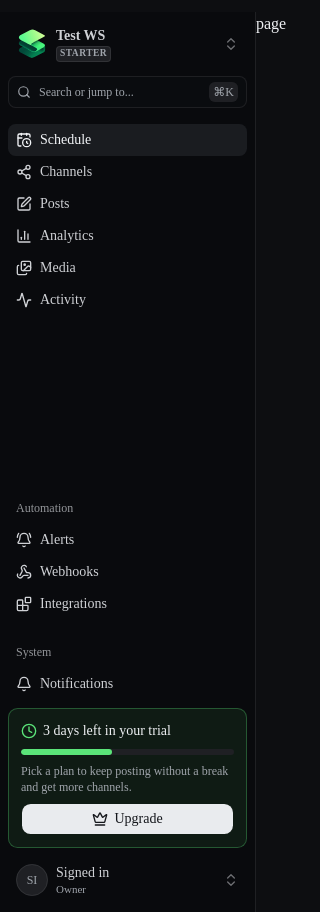
Test case: user menu › in the trial: a highlighted Choose a plan, no Plan & usage (it is in the workspace menu)
Click the button with test id "user-menu-trigger".
click(128, 880)  # box [8,856,247,904]
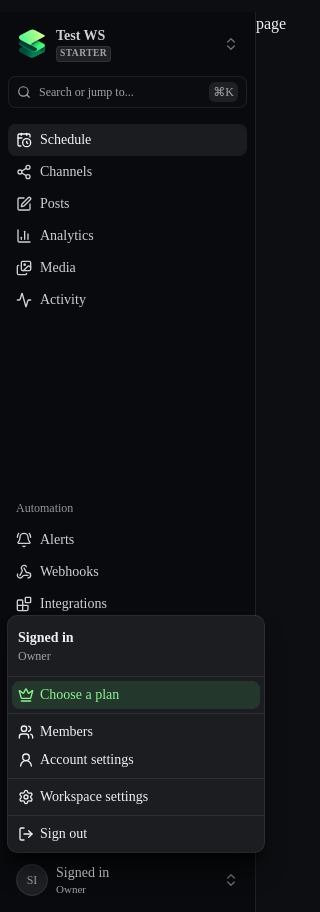
Expected: the menu item with test id "menu-upgrade" reads "Choose a plan", [12,681,260,709]
